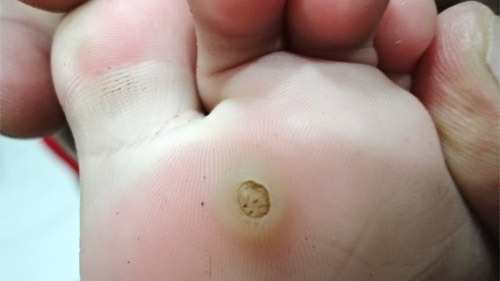Warts: (210, 141, 300, 255)
